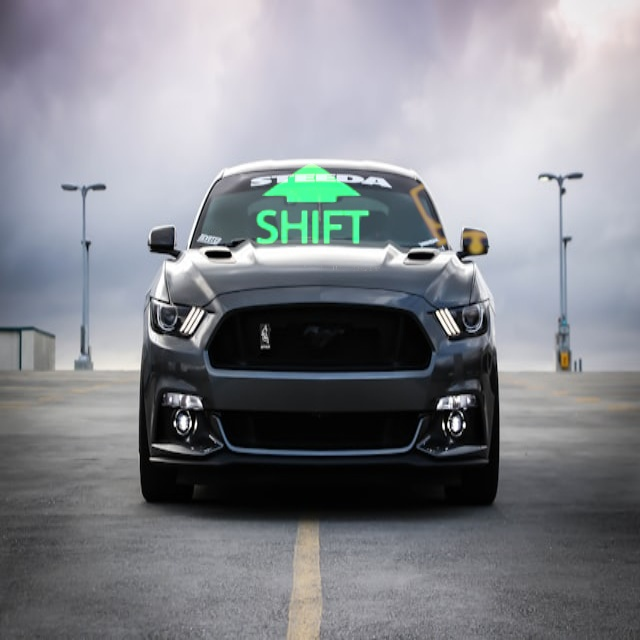symbol: (369, 89, 583, 303), (238, 131, 386, 279)
